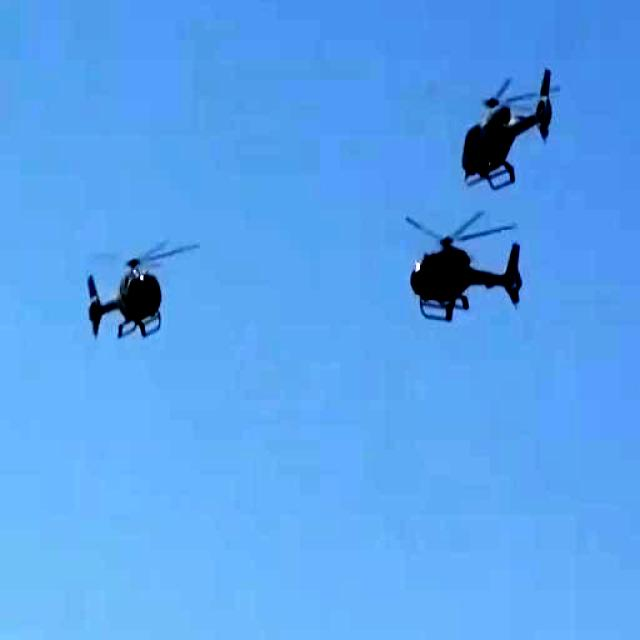drone: (444, 0, 566, 199), (375, 184, 541, 315), (65, 238, 161, 352)
